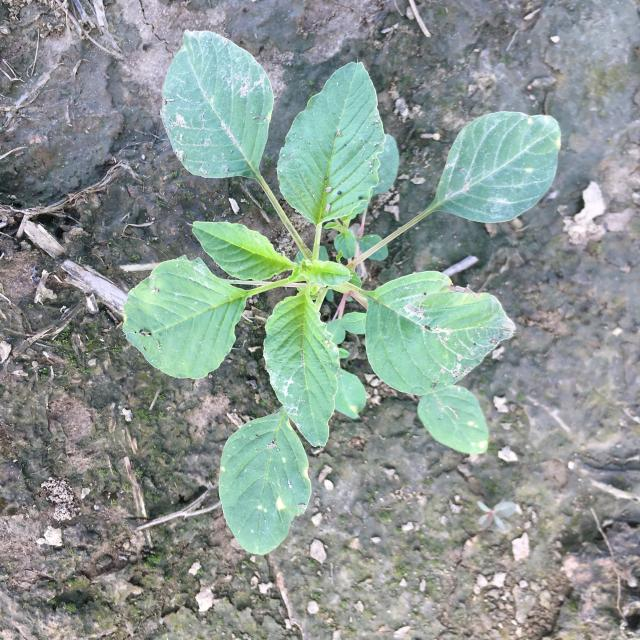PalmerAmaranth: (122, 29, 561, 555)
